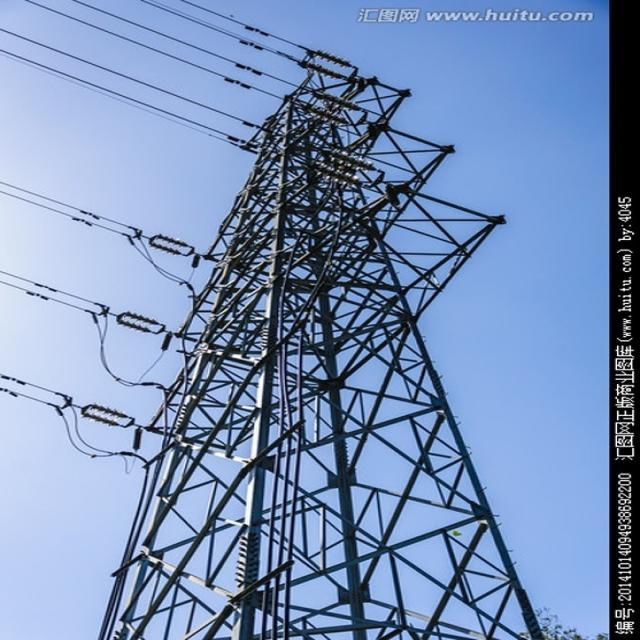non-critical vegetation: (81, 40, 552, 636)
